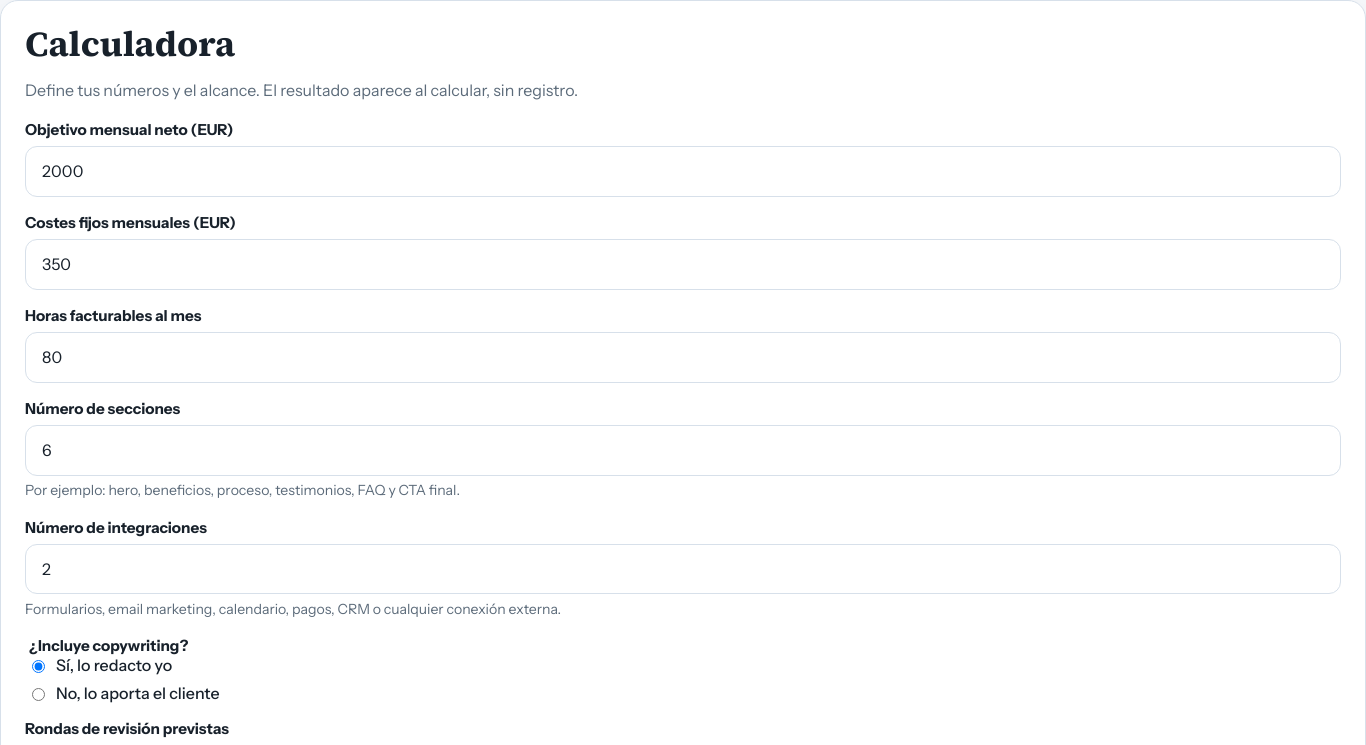
Test: CalculatorForm › shows an error when the monthly target is 0
Replace the text in the number field labelled "Objetivo mensual neto (EUR)" with "0". click: (683, 171)
box: [25, 146, 1341, 197]
(page scrolled)
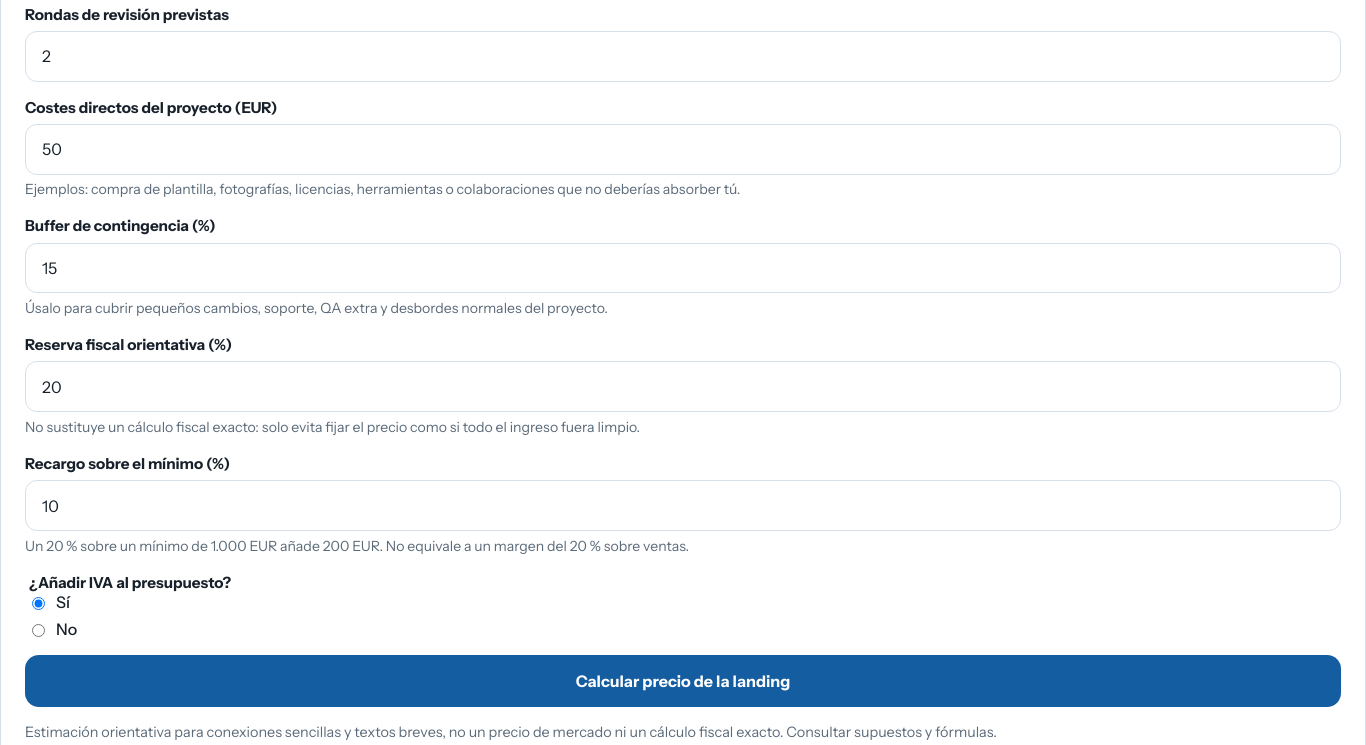
Click the button "Calcular precio de la landing". click: (683, 681)
box: [25, 655, 1341, 707]
(page scrolled)
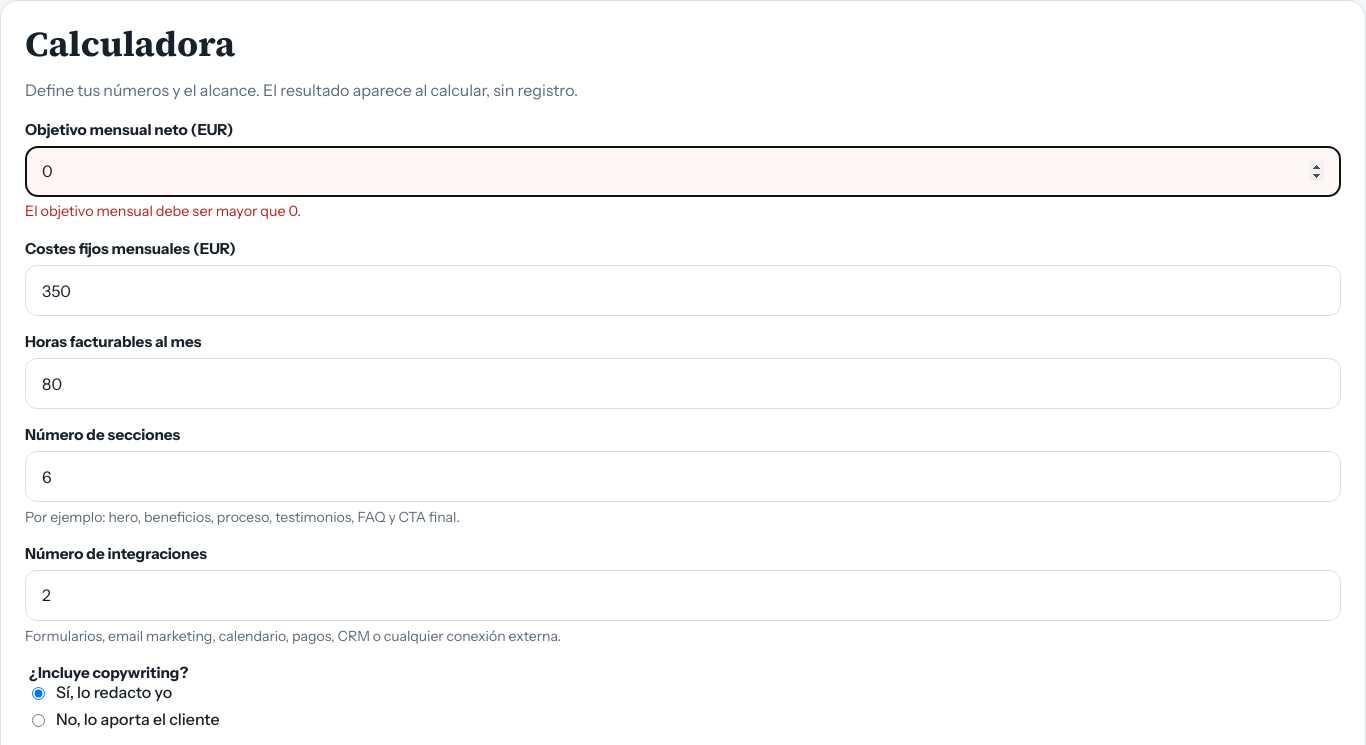
Expected: the text "El objetivo mensual debe ser mayor que 0." is shown, [25, 202, 301, 220]
